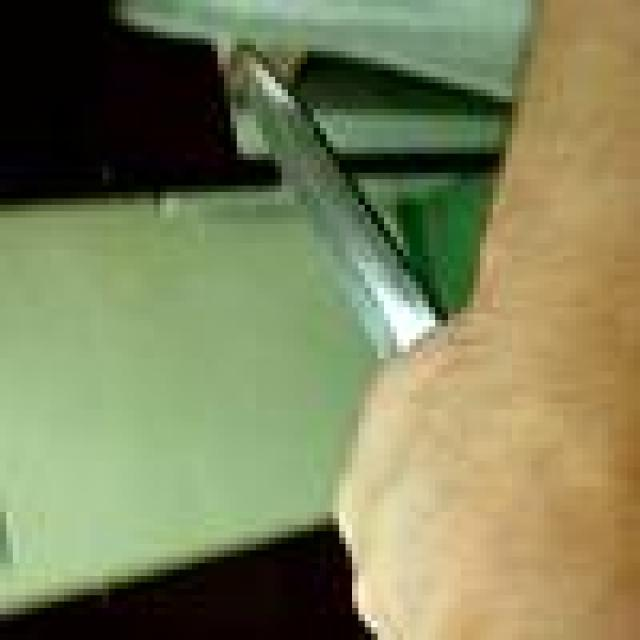knife: (230, 41, 451, 354)
